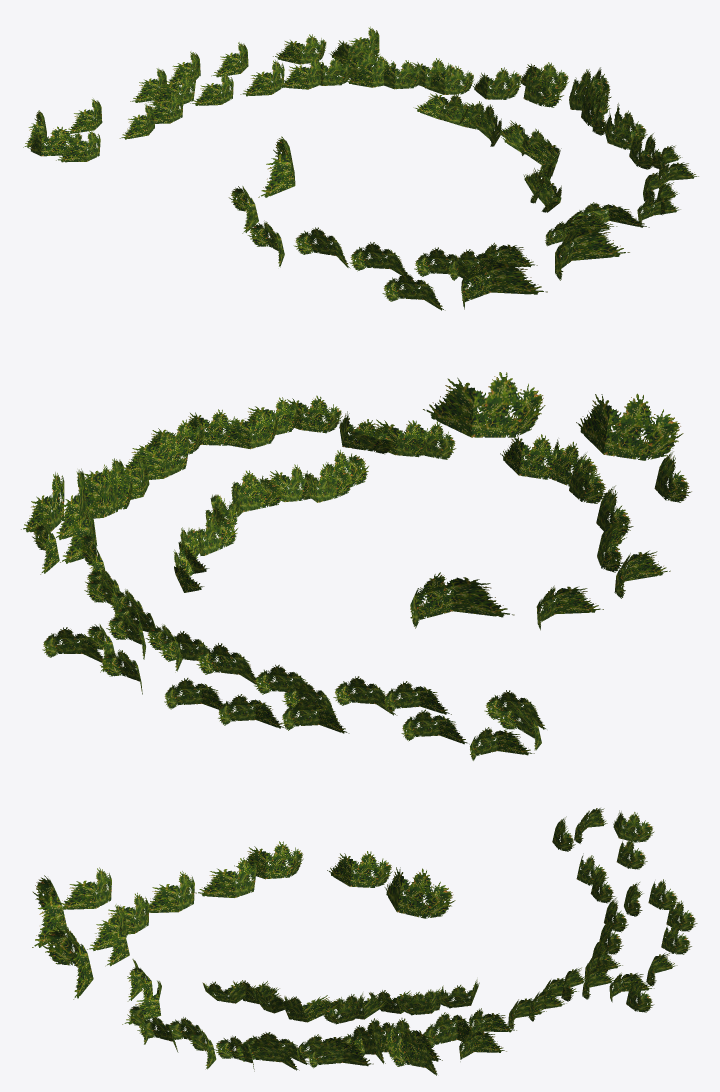
File: bushes.fbx
The picture shows the model from 3 angles, top to bottom: view 1: azimuth 30°, elevation 25°; view 2: azimuth 150°, elevation 25°; view 3: azimuth 270°, elevation 25°; orthographic projection. The views are drawn at different scales.
Visible parts, largest first — view 1: Plane.001; view 2: Plane.001; view 3: Plane.001.
Boxes of the visible parts, x1=… form: Plane.001: x1=23, y1=26, x2=698, y2=310; Plane.001: x1=21, y1=372, x2=691, y2=760; Plane.001: x1=32, y1=808, x2=697, y2=1075.
Bounding box in the file's own units: 4889 × 505 × 5577.
